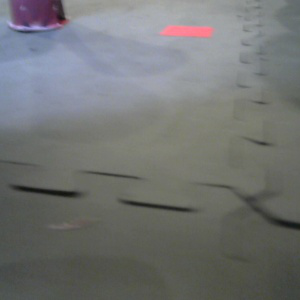right: (4, 1, 71, 34)
